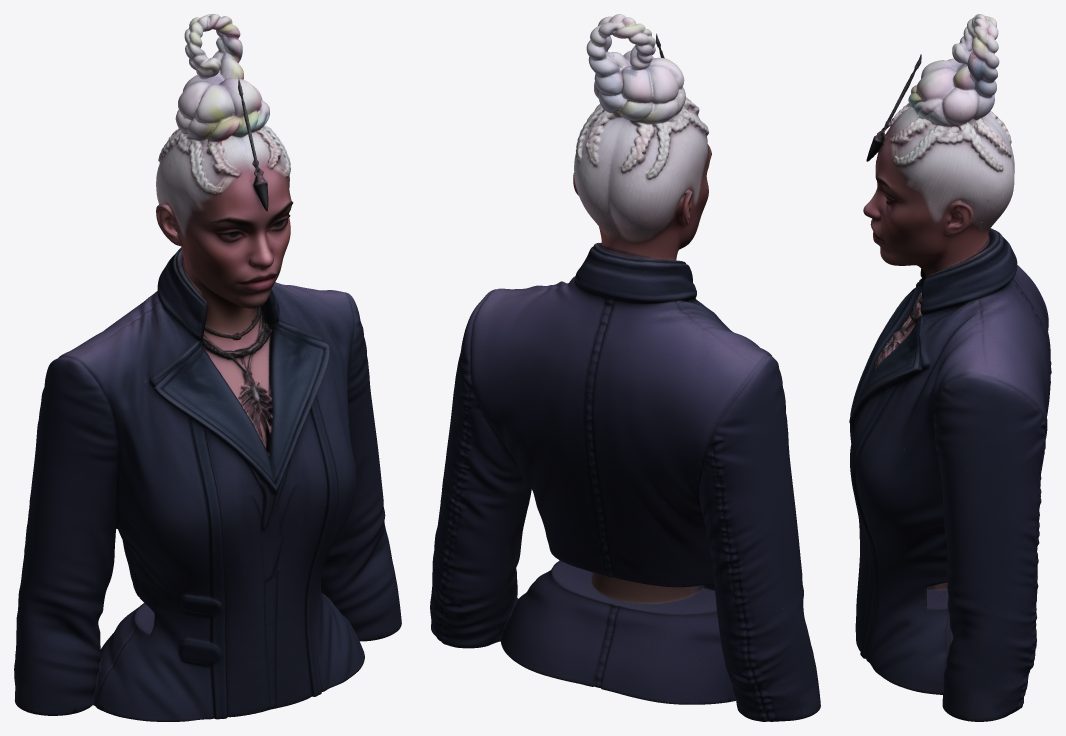
File: Meshy_AI_Coiled Crown_1780629312_image-to-3d-texture.glb
3 renders of one model, left to right at view 1: azimuth 30°, elevation 25°; view 2: azimuth 150°, elevation 25°; view 3: azimuth 270°, elevation 25°, orthographic. The views are drawn at different scales.
Bounding box in the file's own units: 1.16 × 1.9 × 0.5636.
Materials: 1 (1 with a texture image).
